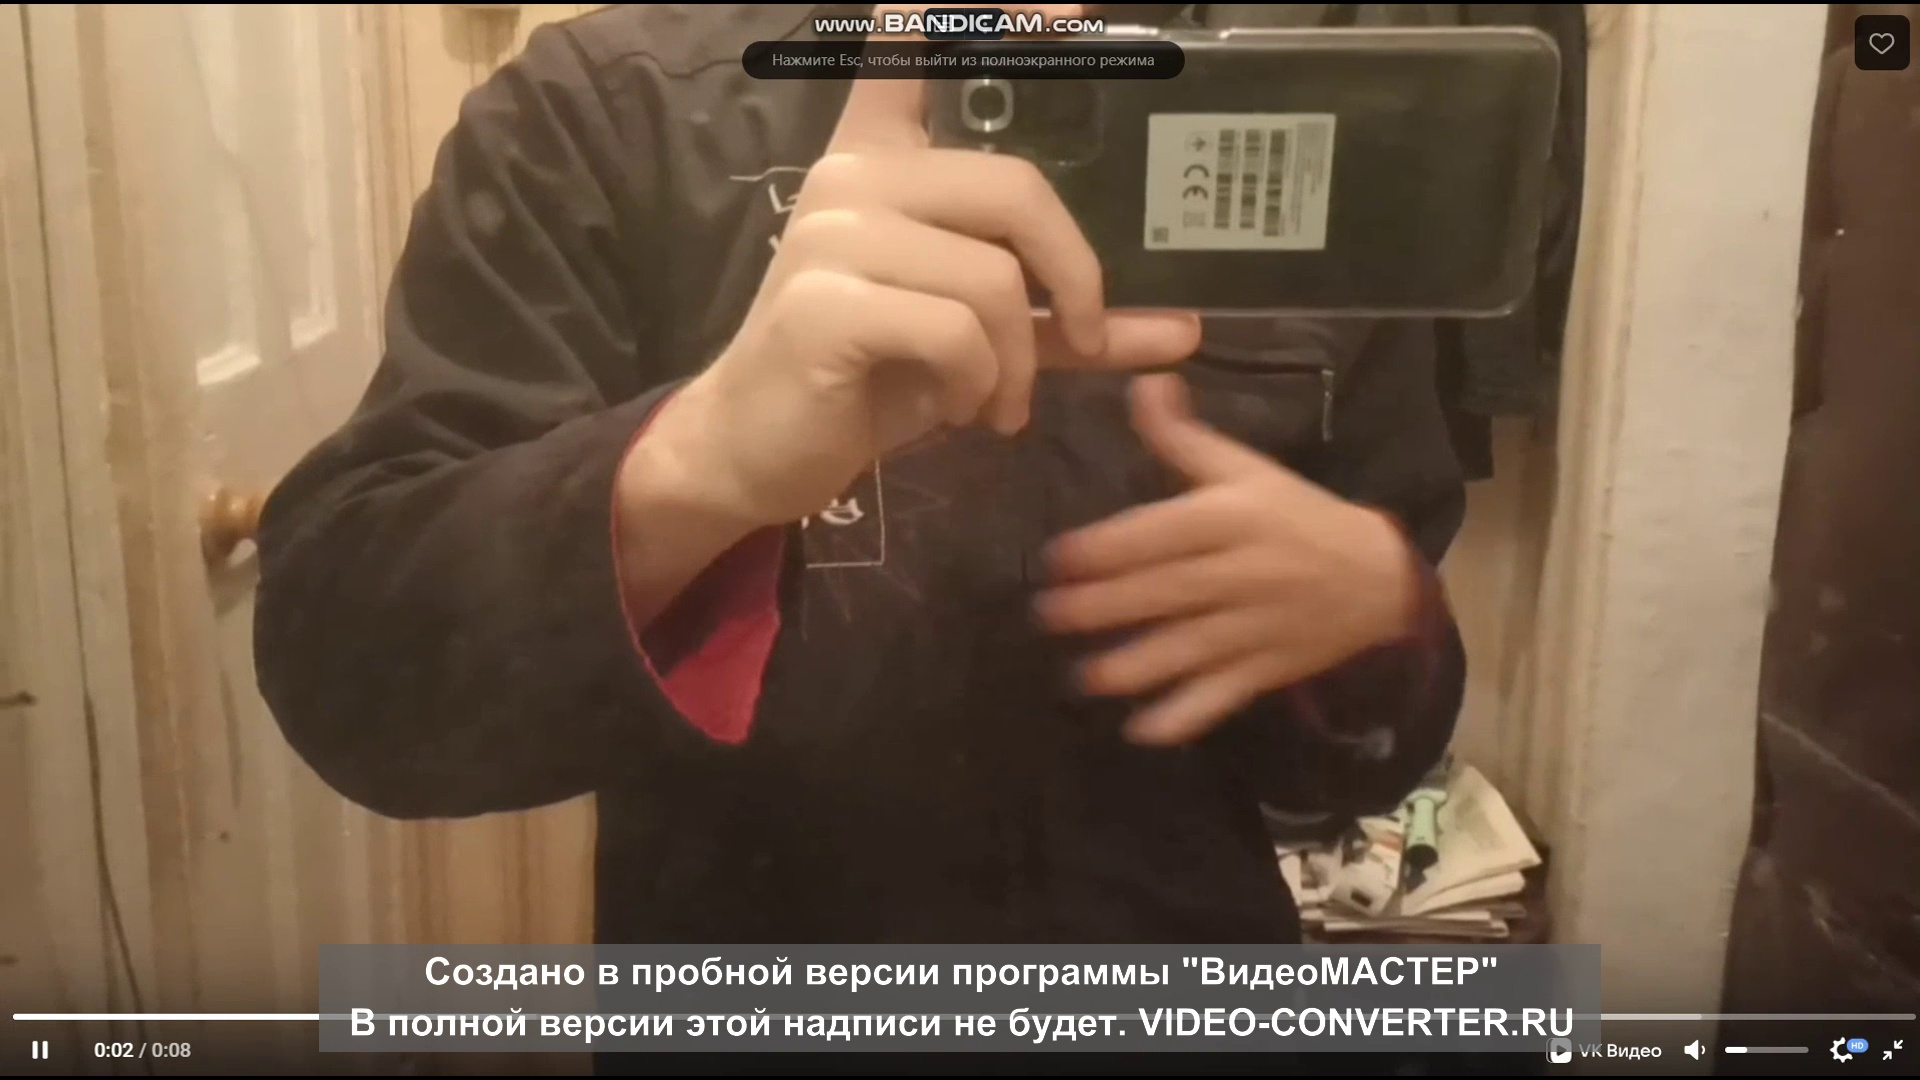Кисть: (1036, 372, 1399, 746)
